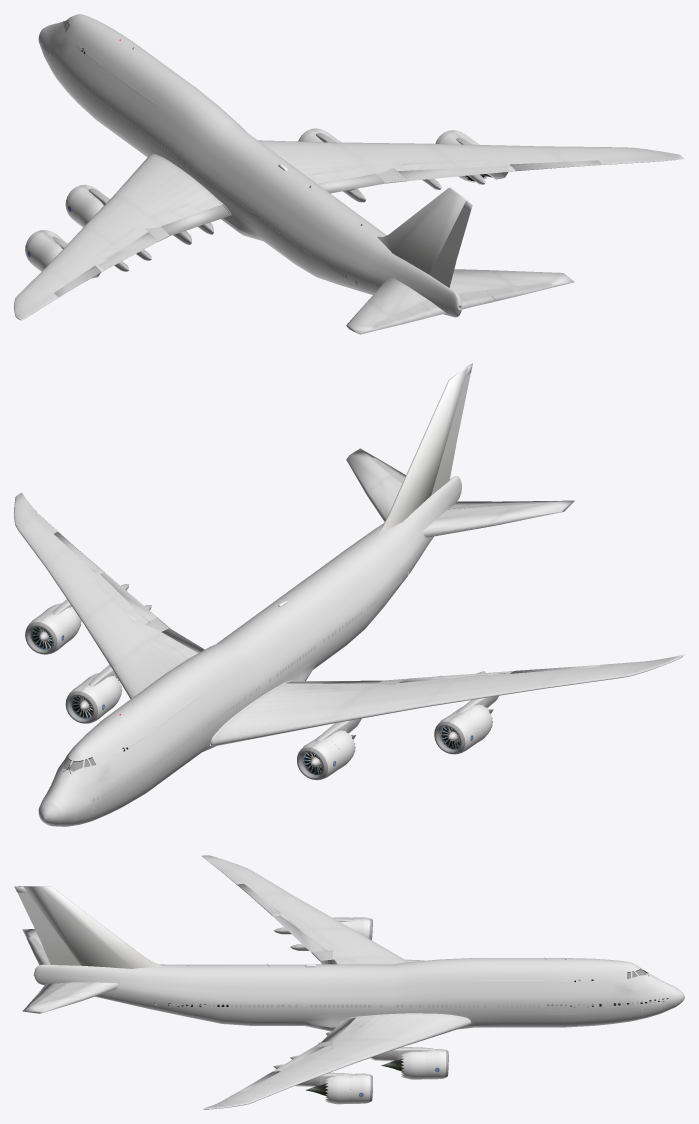
The picture shows the model from 3 angles, top to bottom: view 1: azimuth 30°, elevation 25°; view 2: azimuth 150°, elevation 25°; view 3: azimuth 270°, elevation 25°; orthographic projection. The views are drawn at different scales.
Visible parts, largest first — view 1: fuselage_1_002, wing_001, tail_section, wing, fuselage_1_001, vstab, hstab_R, hstab_L, rudder_1, elevator_right, cabinlighting_001, external_flap_R (+9 smaller); view 2: fuselage_1_002, wing_001, tail_section, fuselage_1_001, wing, vstab, hstab_L, hstab_R, rudder_1, cabinlighting_001; view 3: fuselage_1_002, tail_section, wing_001, fuselage_1_001, vstab, wing, rudder_1, hstab_R, cabinlighting_001, turbofan_capa_rev_L_3, turbofan_capa_rev_L_4, turbofan_capa_L_3 (+3 smaller).
Part boxes in pixels (bbox=[...]): fuselage_1_002: bbox=[104, 51, 313, 247]; wing_001: bbox=[14, 142, 684, 320]; tail_section: bbox=[267, 179, 461, 317]; wing: bbox=[114, 140, 375, 226]; fuselage_1_001: bbox=[38, 14, 147, 129]; vstab: bbox=[377, 187, 472, 274]; hstab_R: bbox=[450, 269, 574, 293]; hstab_L: bbox=[346, 276, 427, 334]; rudder_1: bbox=[429, 206, 470, 287]; elevator_right: bbox=[458, 282, 554, 309]; cabinlighting_001: bbox=[40, 38, 357, 284]; external_flap_R: bbox=[398, 166, 509, 180]; fuselage_1_002: bbox=[124, 593, 329, 781]; wing_001: bbox=[14, 492, 684, 723]; tail_section: bbox=[282, 476, 461, 661]; fuselage_1_001: bbox=[41, 703, 167, 826]; wing: bbox=[113, 631, 375, 746]; vstab: bbox=[377, 363, 472, 535]; hstab_L: bbox=[423, 500, 574, 537]; hstab_R: bbox=[346, 448, 401, 521]; rudder_1: bbox=[431, 373, 470, 495]; cabinlighting_001: bbox=[41, 571, 408, 812]; fuselage_1_002: bbox=[287, 958, 541, 1027]; tail_section: bbox=[34, 964, 287, 1025]; wing_001: bbox=[201, 855, 407, 1109]; fuselage_1_001: bbox=[541, 958, 675, 1027]; vstab: bbox=[14, 886, 163, 968]; wing: bbox=[334, 957, 471, 1045]; rudder_1: bbox=[17, 892, 80, 965]; hstab_R: bbox=[22, 982, 118, 1013]; cabinlighting_001: bbox=[154, 979, 668, 1007]; turbofan_capa_rev_L_3: bbox=[401, 1051, 426, 1079]; turbofan_capa_rev_L_4: bbox=[325, 1075, 350, 1104]; turbofan_capa_L_3: bbox=[426, 1050, 446, 1079].
Size of the model in its own units: 68.4 by 18.57 by 76.55.
Materials: 25 (16 with a texture image).
